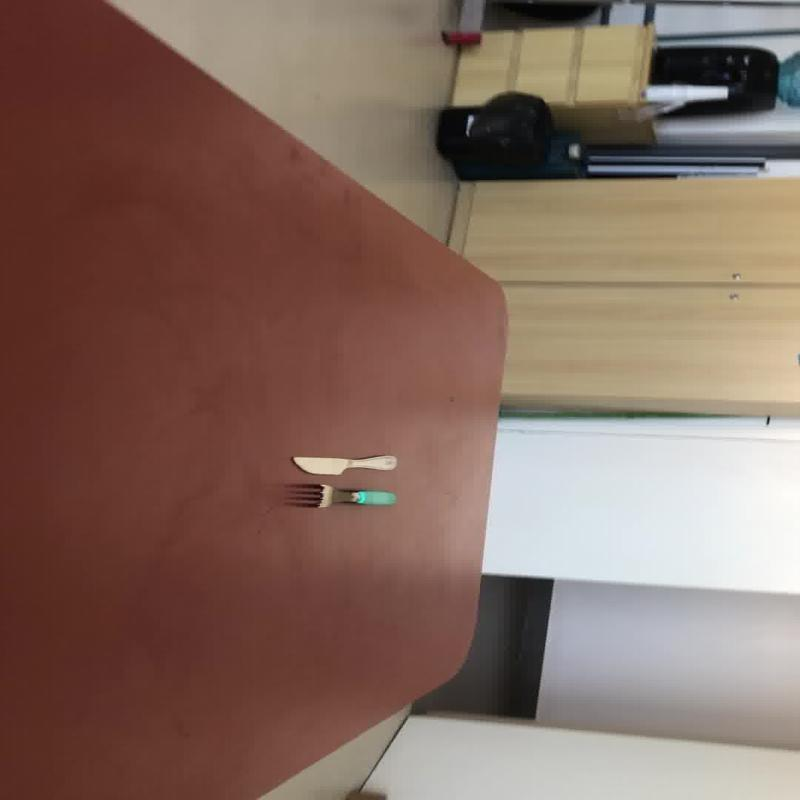fork: (282, 482, 395, 508), (290, 453, 397, 474)
